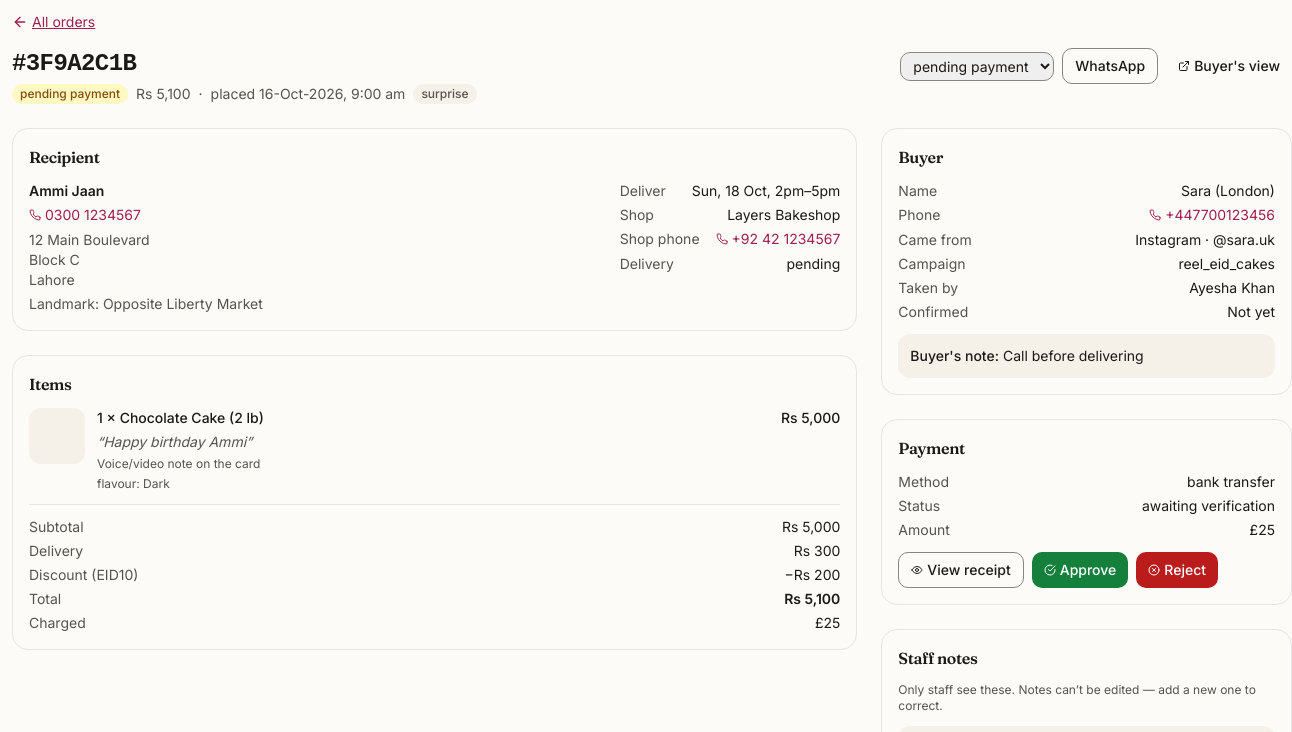
Scenario: OrderDetail › changes status and shows a refusal
Select "preparing" in the dropdown named "Order status" at (977, 66), box x1=900 y1=52 x2=1054 y2=80
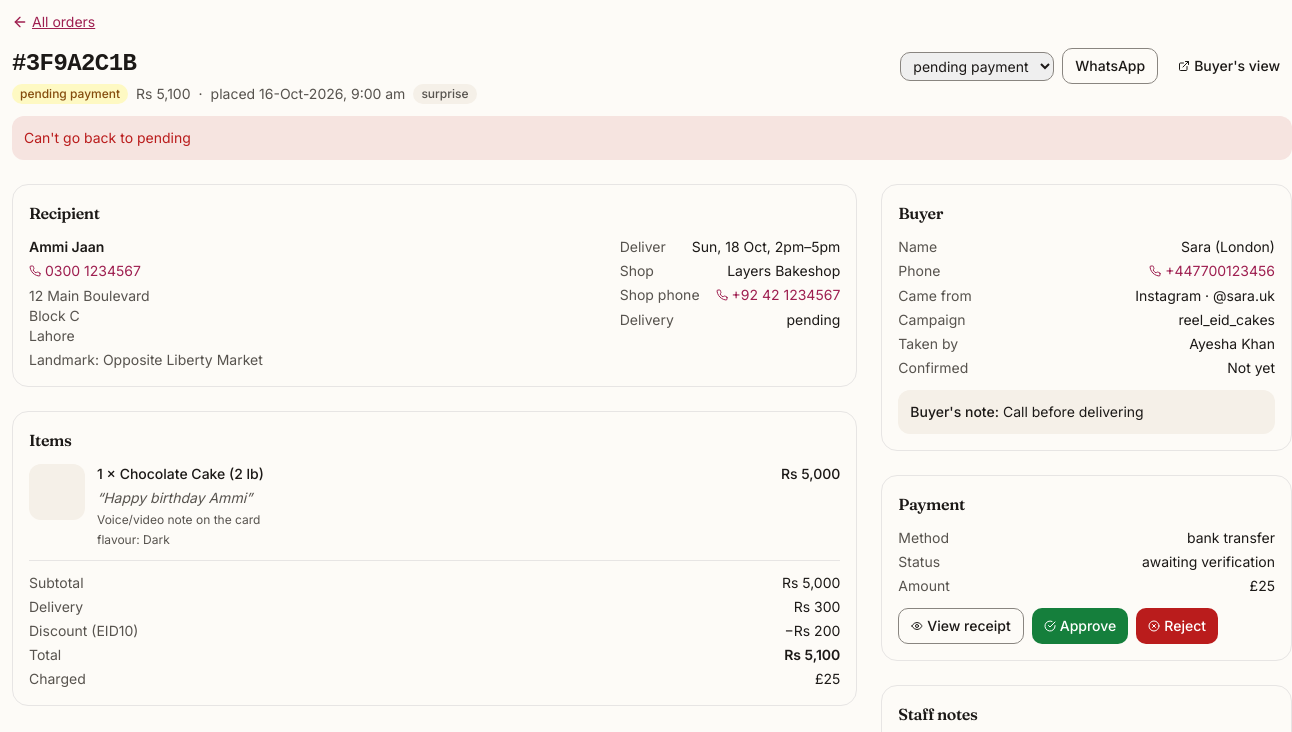
Check: the message reads "Can't go back to pending", box x1=24 y1=129 x2=191 y2=146
